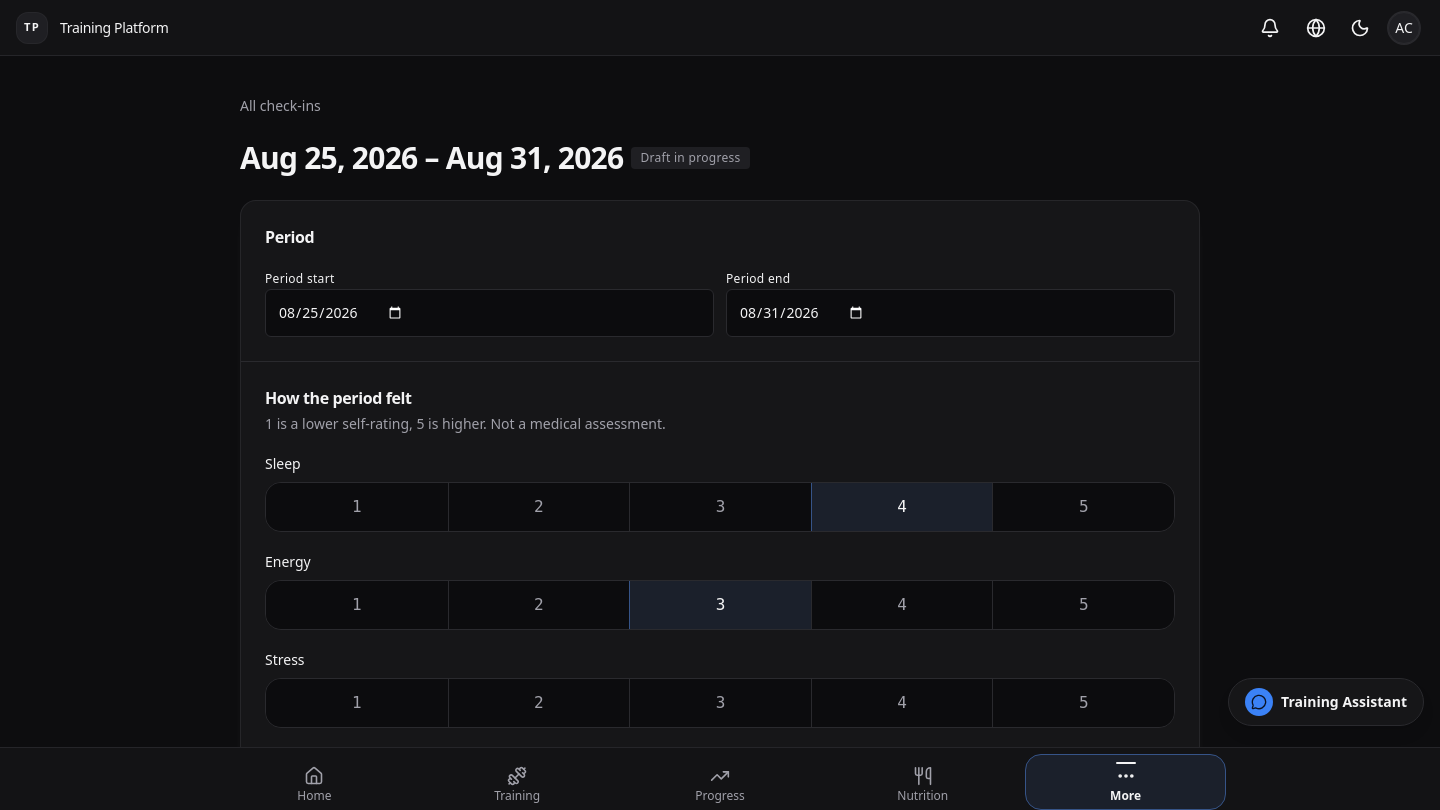
Test case: Client check-ins › populates a draft and submits the generated payload once
The image size is (1440, 810).
Click the button named "Energy 5" at (1083, 605), box [992,581,1174,629]
(page scrolled)
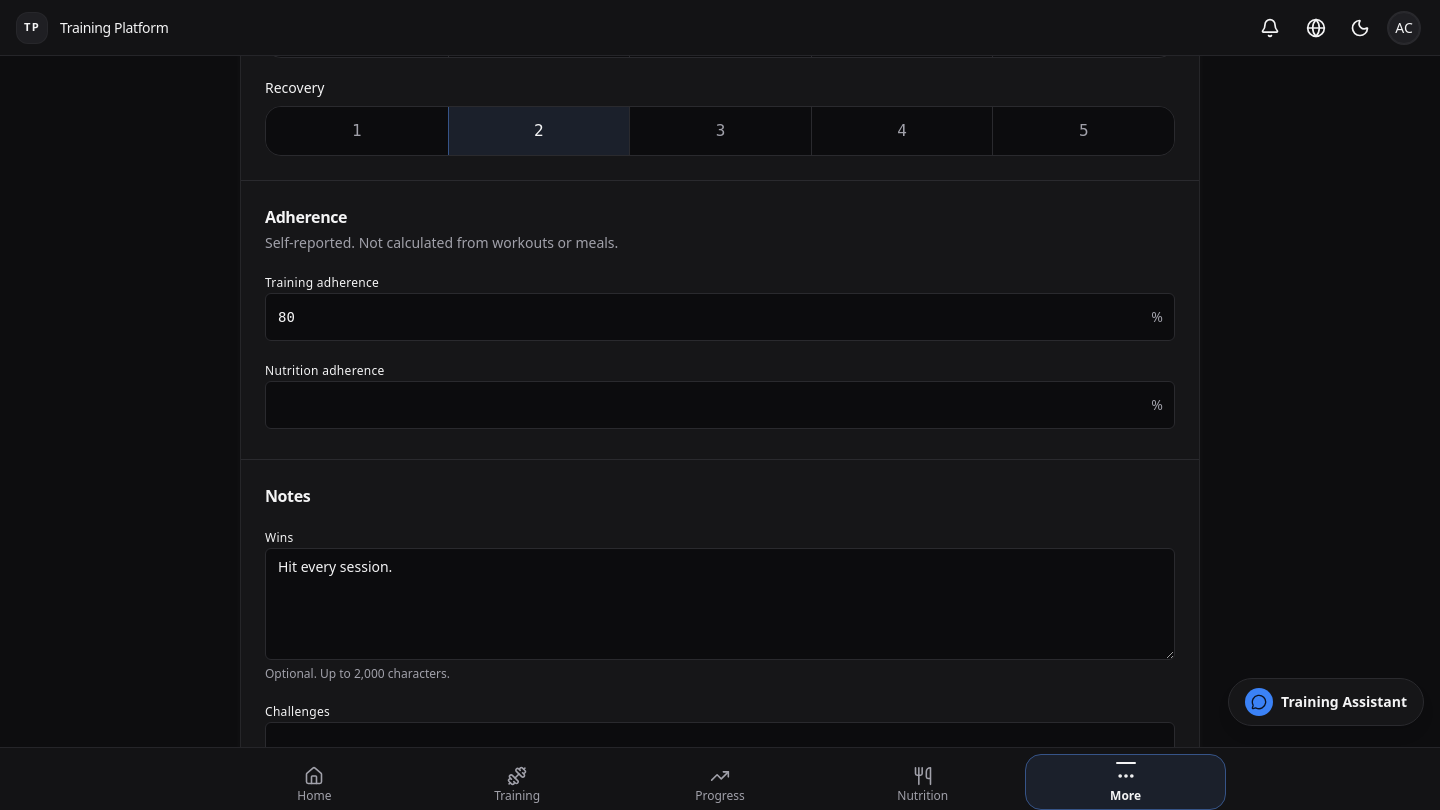
Type "62.5" into the field labelled "Nutrition adherence" at (720, 405), box [265,381,1175,429]
(page scrolled)
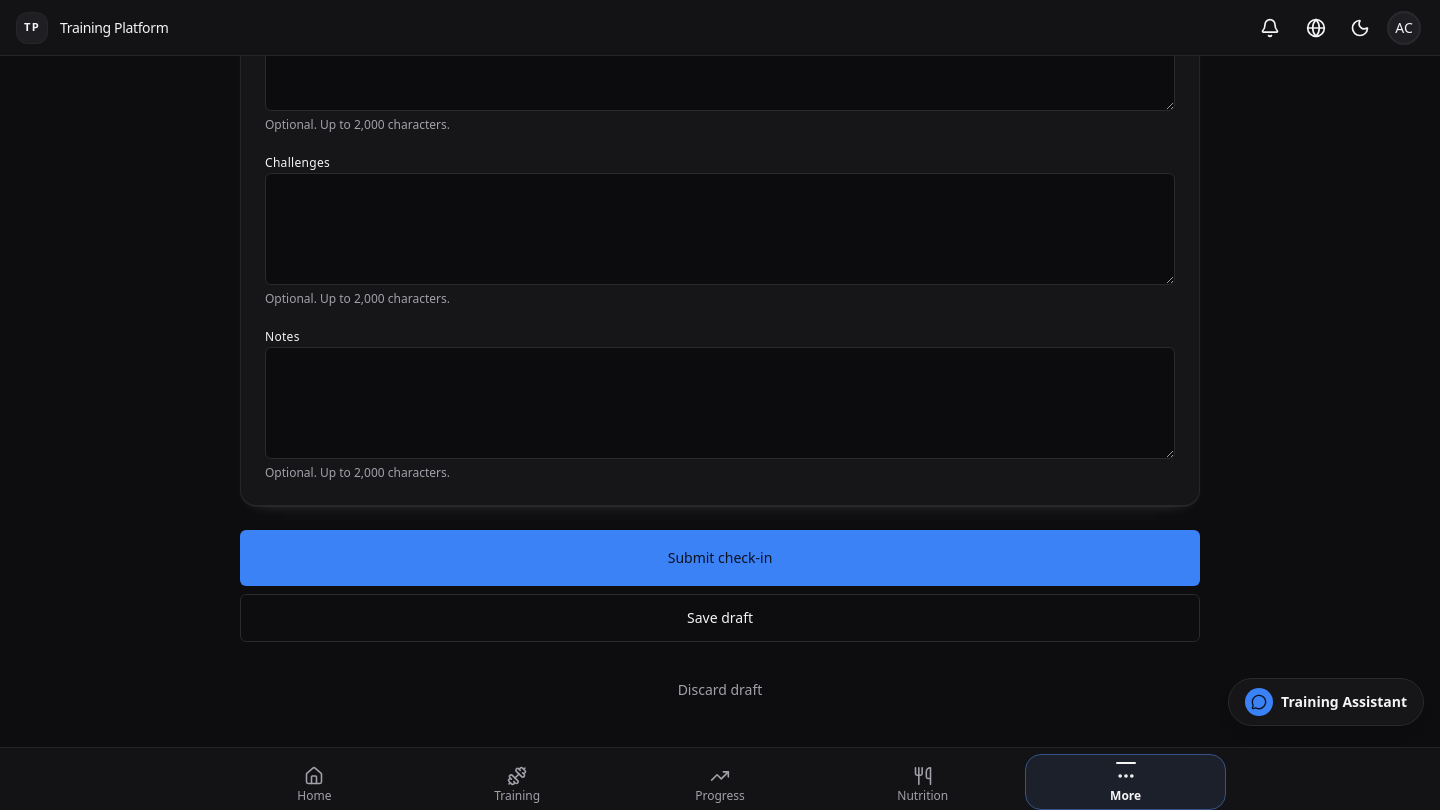
Click the button "Submit check-in" at (720, 558), box [240,530,1200,586]
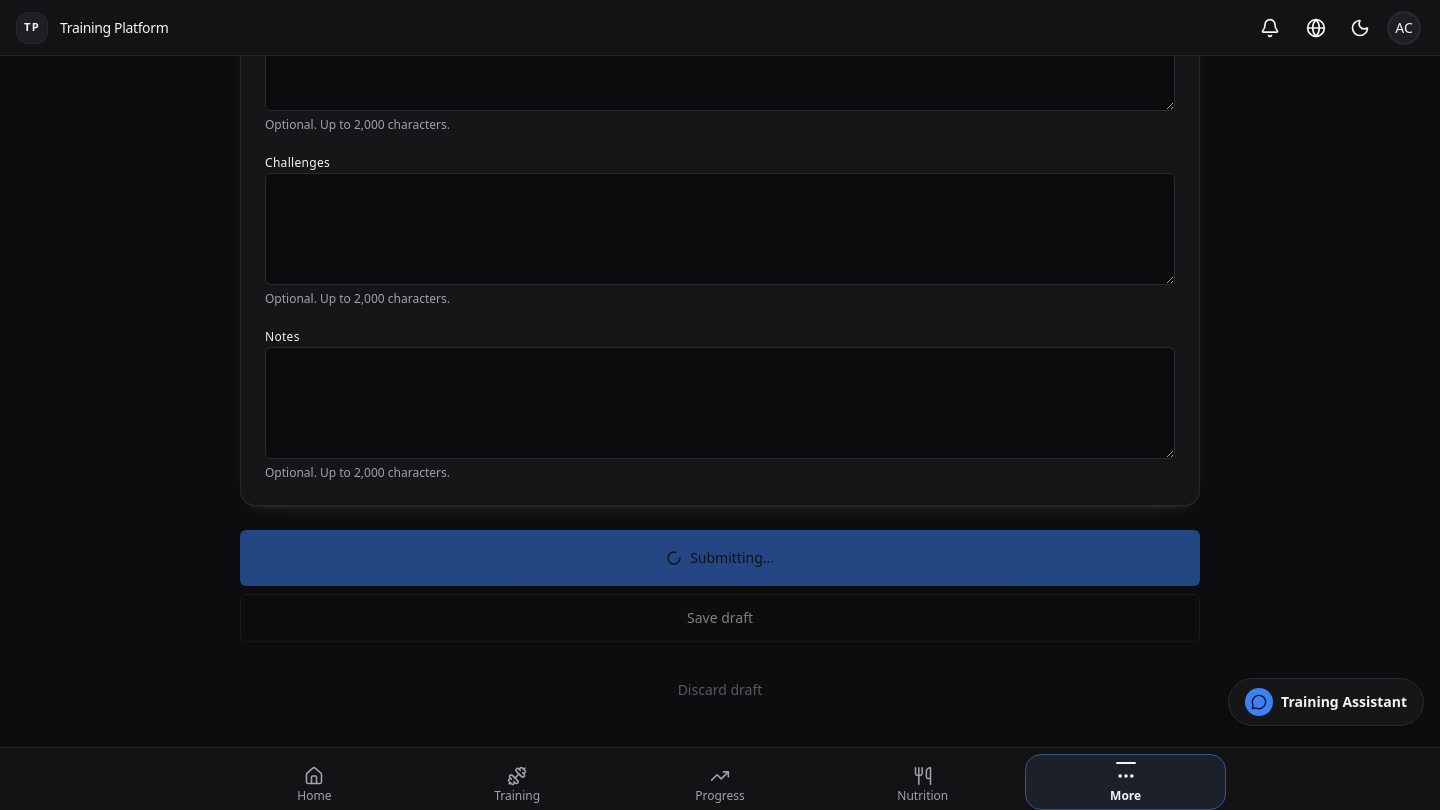
Click the button named "Submit check-in" at (720, 558), box [240,530,1200,586]
(page scrolled)
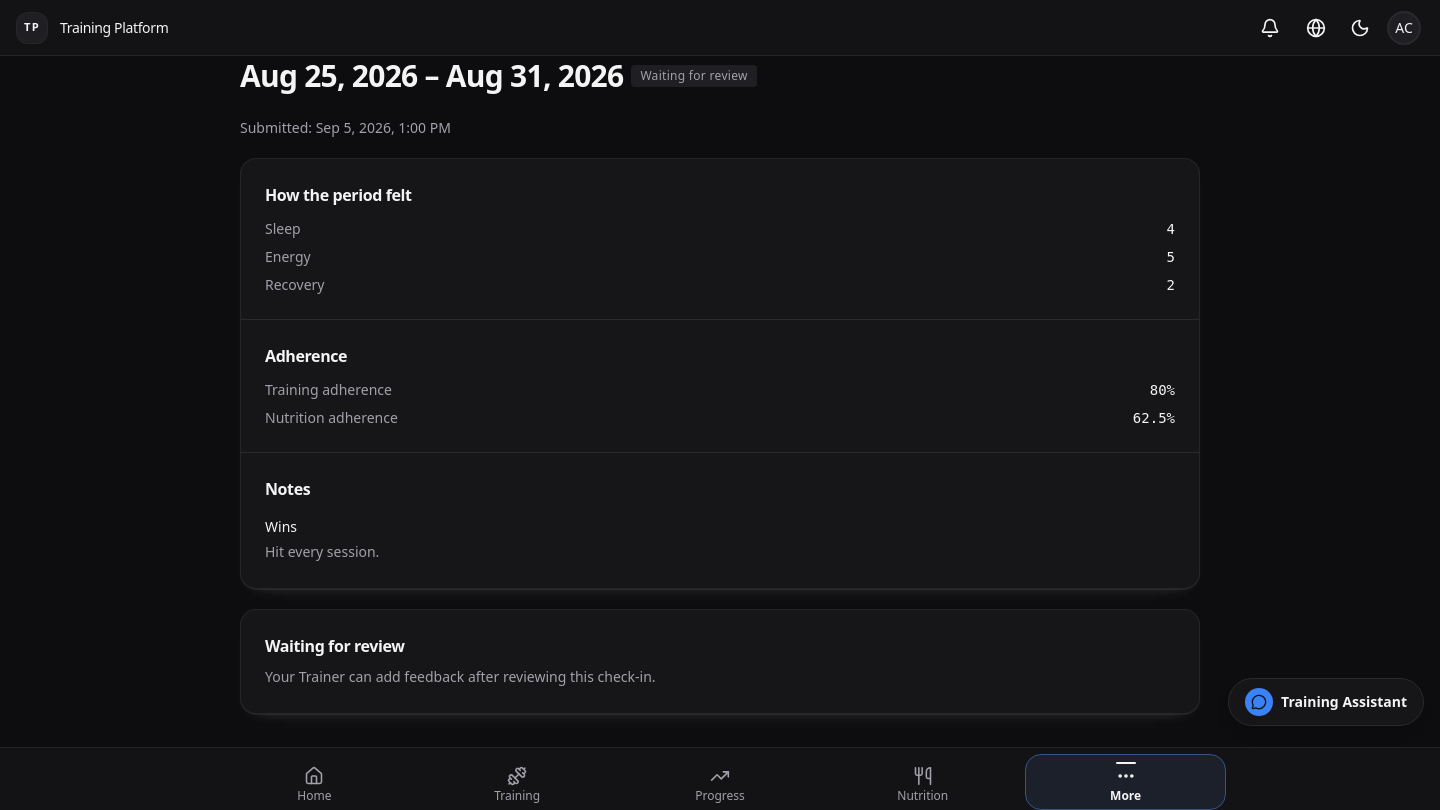
expect the button "Submit check-in" is not shown: met
expect the heading "Waiting for review" is shown: met, box [265,635,404,657]
